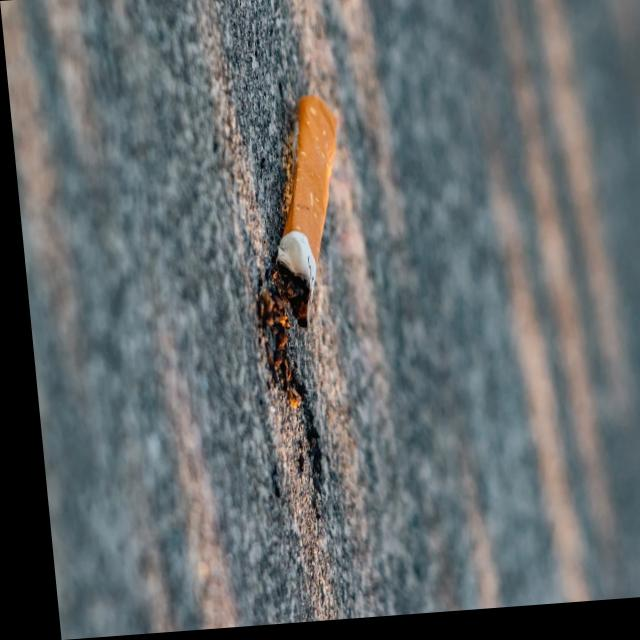Cigarette Butt: (231, 96, 358, 412)
